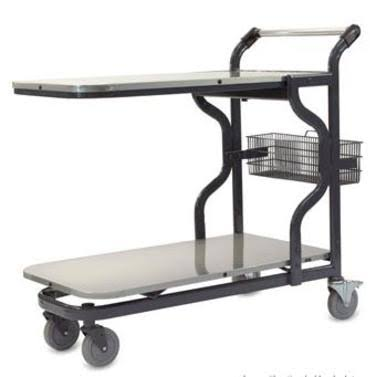Carts: (11, 21, 364, 370)
